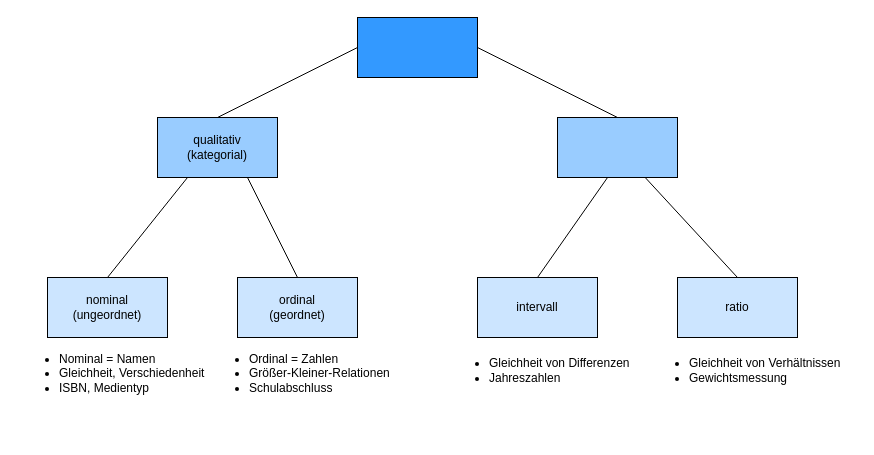
This 874x455 diagram has some shape labels left out. The centre of each missing label's shape, as x and y in pixels:
"Datentypen" goes at pixel 417 47.
"quantitativ (metrisch)" goes at pixel 617 147.
